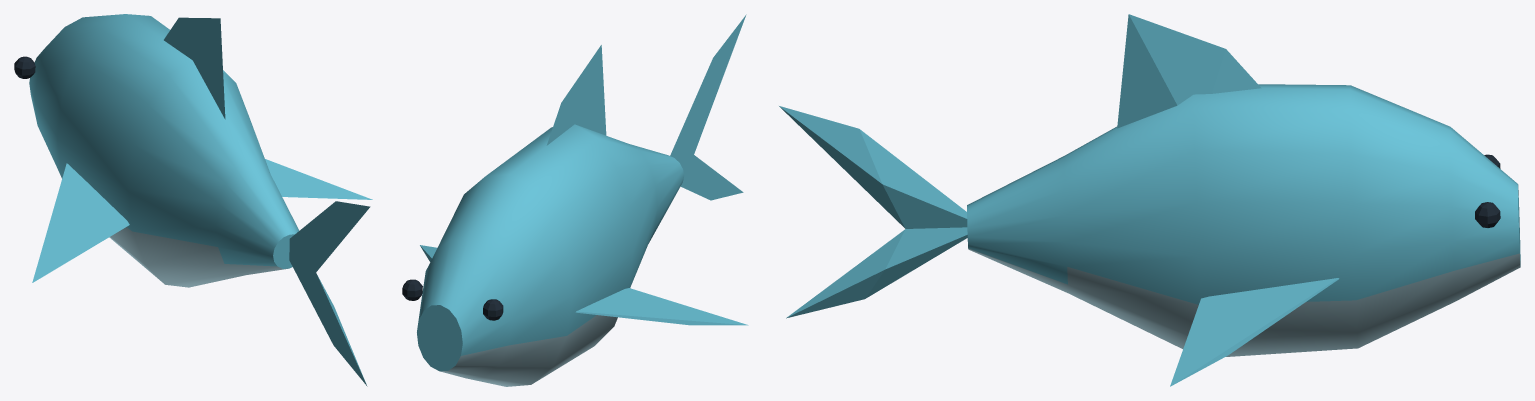
The model's file is water-fish.glb.
3 renders of one model, left to right at view 1: azimuth 30°, elevation 25°; view 2: azimuth 150°, elevation 25°; view 3: azimuth 270°, elevation 25°, orthographic. The views are drawn at different scales.
Visible parts, largest first — view 1: Fish body, Fish pectoral, Fish dorsal, Fish tail fin.001, Fish tail fin, Fish pectoral.001, Fish eye; view 2: Fish body, Fish pectoral, Fish dorsal, Fish tail fin.001, Fish tail fin, Fish eye, Fish eye.001; view 3: Fish body, Fish dorsal, Fish tail fin.001, Fish pectoral.001, Fish tail fin.
Part boxes in pixels (x1,y1,x2,y2): Fish body: [29, 14, 299, 287]; Fish pectoral: [32, 163, 129, 282]; Fish dorsal: [164, 17, 225, 119]; Fish tail fin.001: [289, 201, 370, 272]; Fish tail fin: [289, 252, 367, 386]; Fish pectoral.001: [265, 159, 372, 199]; Fish eye: [14, 56, 35, 78]; Fish body: [417, 124, 683, 386]; Fish pectoral: [575, 288, 748, 325]; Fish dorsal: [546, 45, 606, 145]; Fish tail fin.001: [670, 14, 746, 163]; Fish tail fin: [680, 155, 743, 200]; Fish eye: [483, 299, 503, 320]; Fish eye.001: [402, 279, 422, 300]; Fish body: [967, 84, 1520, 356]; Fish dorsal: [1117, 14, 1261, 128]; Fish tail fin.001: [779, 106, 967, 228]; Fish pectoral.001: [1170, 278, 1339, 386]; Fish tail fin: [786, 227, 967, 318].
Size of the model in its own units: 0.559 by 0.4575 by 0.9018.
